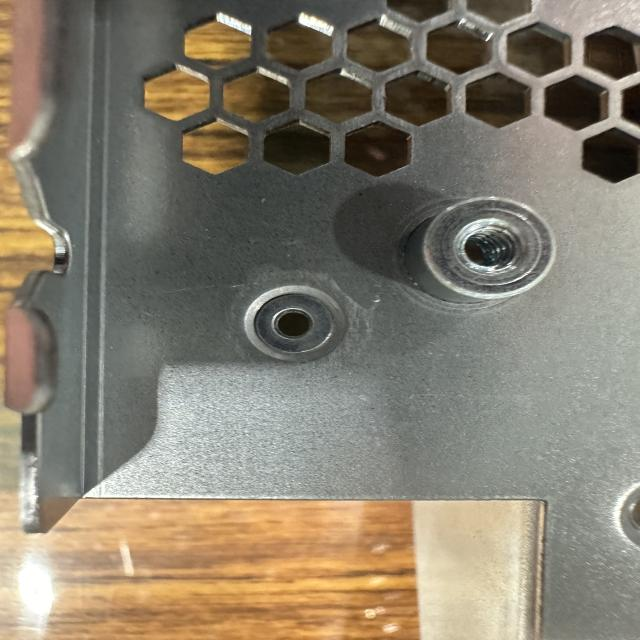Missing screw: (230, 280, 360, 372)
